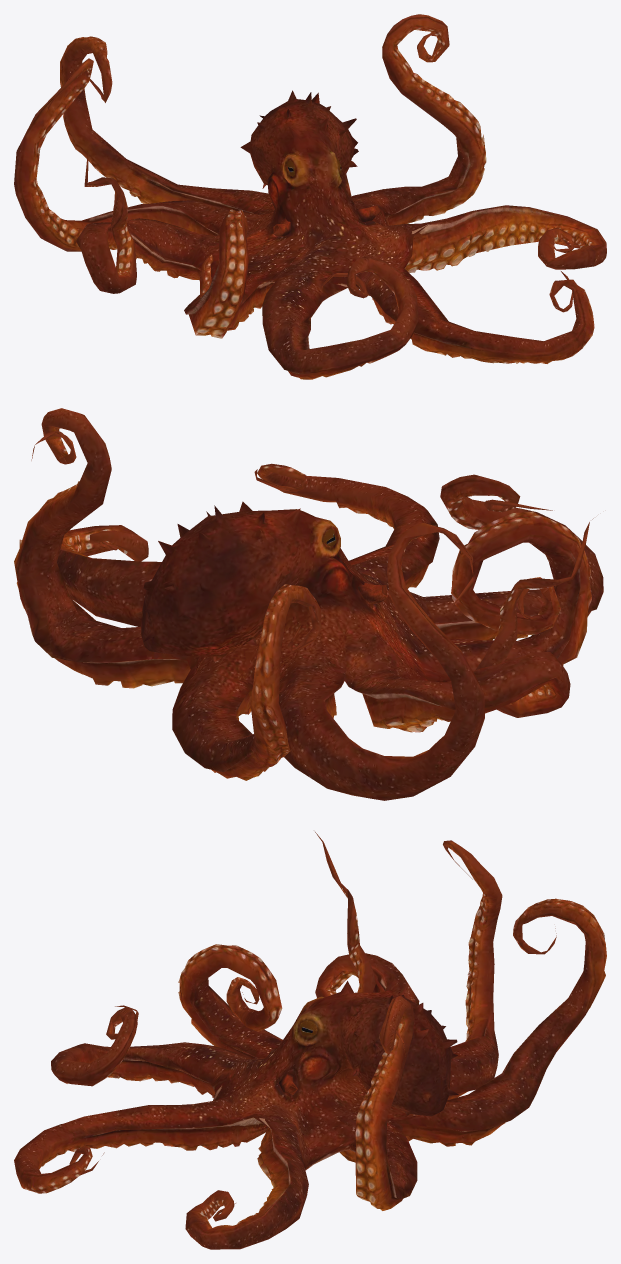
The model's file is octopus_lod2.glb.
3 views of the same model, one above another, from view 1: azimuth 30°, elevation 25°; view 2: azimuth 150°, elevation 25°; view 3: azimuth 270°, elevation 25° (orthographic). The views are drawn at different scales.
Visible parts, largest first — view 1: octopus.1; view 2: octopus.1; view 3: octopus.1.
Part boxes in pixels (bbox=[...]): octopus.1: bbox=[14, 14, 606, 379]; octopus.1: bbox=[14, 408, 603, 800]; octopus.1: bbox=[14, 832, 606, 1249].
Bounding box in the file's own units: 0.0778 × 0.0332 × 0.0828.
Materials: 1 (1 with a texture image).
